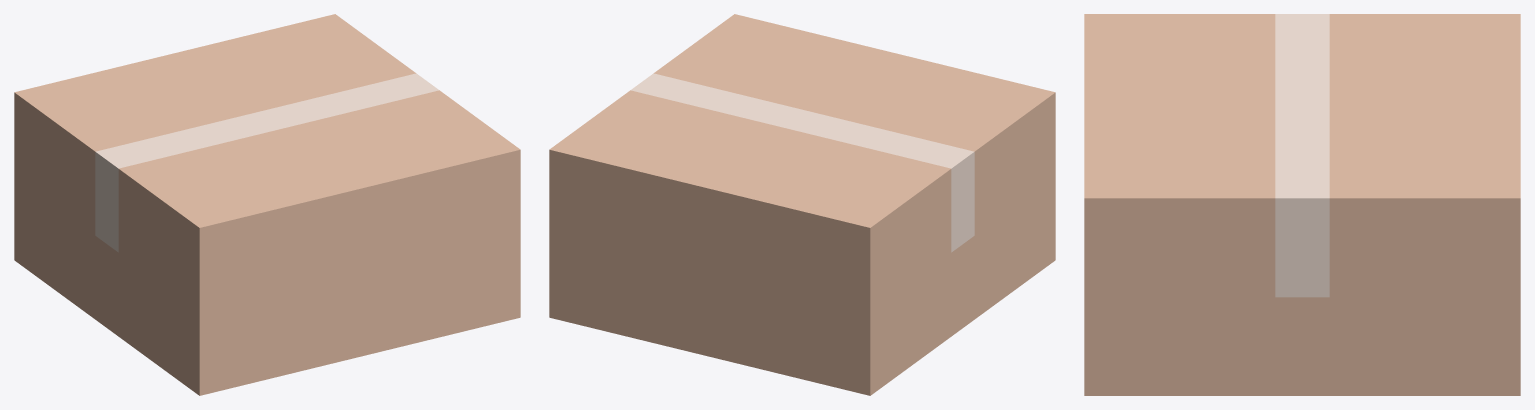
File: box-large.gltf
The picture shows the model from 3 angles, left to right: view 1: azimuth 30°, elevation 25°; view 2: azimuth 150°, elevation 25°; view 3: azimuth 270°, elevation 25°; orthographic projection. The views are drawn at different scales.
Parts seen in each view (by area): view 1: box-large; view 2: box-large; view 3: box-large.
Boxes of the visible parts, left/top/right/bottom form: box-large: left=14, top=14, right=520, bottom=395; box-large: left=549, top=14, right=1055, bottom=395; box-large: left=1084, top=14, right=1520, bottom=395.
Size of the model in its own units: 1 by 0.5 by 1.
